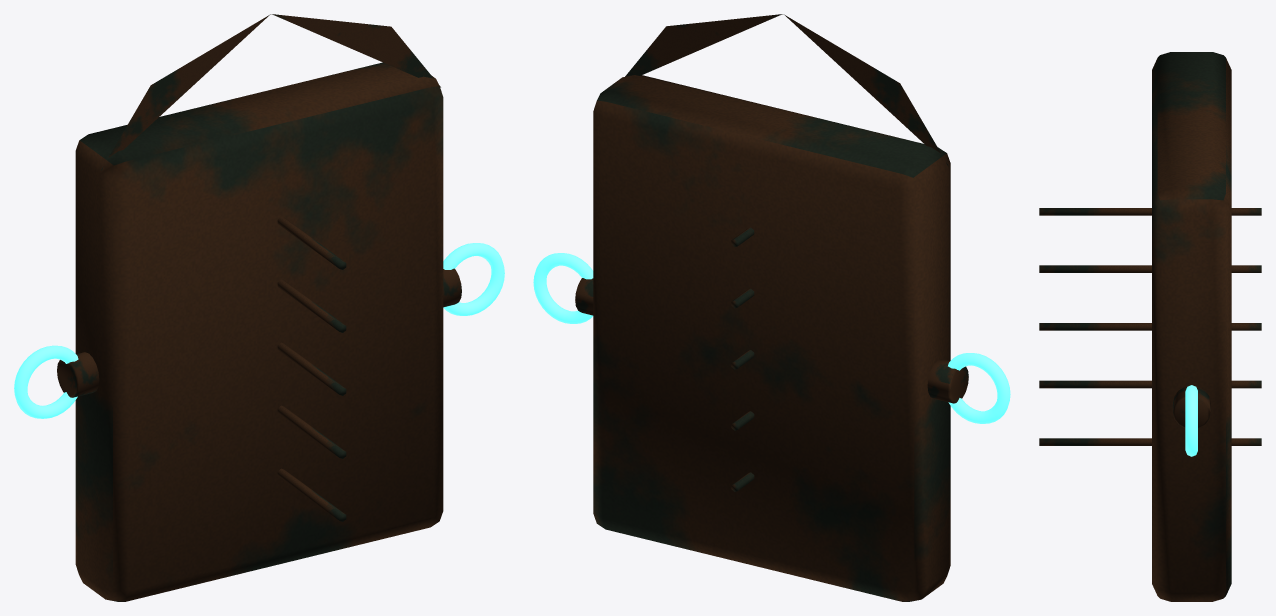
Rendered from inscribed_stele.fbx.
3 views of the same model, side by side, from view 1: azimuth 30°, elevation 25°; view 2: azimuth 150°, elevation 25°; view 3: azimuth 270°, elevation 25° (orthographic). The views are drawn at different scales.
Visible parts, largest first — view 1: TH10_Stele_Body, TH10_Stele_Crown, TH10_Stele_Handle, TH10_Stele_Handle.001, TH10_Stele_HandleSocket, TH10_Stele_Glyph, TH10_Stele_Glyph.002, TH10_Stele_Glyph.001, TH10_Stele_Glyph.003, TH10_Stele_Glyph.004; view 2: TH10_Stele_Body, TH10_Stele_Crown, TH10_Stele_Handle, TH10_Stele_Handle.001, TH10_Stele_HandleSocket; view 3: TH10_Stele_Body, TH10_Stele_Glyph.001, TH10_Stele_Glyph, TH10_Stele_Glyph.002, TH10_Stele_Glyph.003, TH10_Stele_Glyph.004, TH10_Stele_Handle.001, TH10_Stele_HandleSocket.001.
Boxes of the visible parts, x1=… form: TH10_Stele_Body: x1=75, y1=62, x2=443, y2=601; TH10_Stele_Crown: x1=101, y1=14, x2=440, y2=170; TH10_Stele_Handle: x1=14, y1=345, x2=78, y2=418; TH10_Stele_Handle.001: x1=443, y1=243, x2=504, y2=315; TH10_Stele_HandleSocket: x1=57, y1=352, x2=99, y2=397; TH10_Stele_Glyph: x1=277, y1=468, x2=346, y2=521; TH10_Stele_Glyph.002: x1=277, y1=342, x2=346, y2=395; TH10_Stele_Glyph.001: x1=277, y1=405, x2=346, y2=458; TH10_Stele_Glyph.003: x1=277, y1=279, x2=346, y2=332; TH10_Stele_Glyph.004: x1=277, y1=216, x2=346, y2=269; TH10_Stele_Body: x1=593, y1=75, x2=950, y2=601; TH10_Stele_Crown: x1=625, y1=14, x2=948, y2=166; TH10_Stele_Handle: x1=948, y1=353, x2=1010, y2=423; TH10_Stele_Handle.001: x1=533, y1=253, x2=593, y2=323; TH10_Stele_HandleSocket: x1=927, y1=359, x2=968, y2=403; TH10_Stele_Body: x1=1152, y1=52, x2=1231, y2=601; TH10_Stele_Glyph.001: x1=1039, y1=380, x2=1261, y2=388; TH10_Stele_Glyph: x1=1039, y1=438, x2=1261, y2=445; TH10_Stele_Glyph.002: x1=1039, y1=323, x2=1261, y2=330; TH10_Stele_Glyph.003: x1=1039, y1=265, x2=1261, y2=272; TH10_Stele_Glyph.004: x1=1039, y1=208, x2=1261, y2=215; TH10_Stele_Handle.001: x1=1185, y1=385, x2=1197, y2=456; TH10_Stele_HandleSocket.001: x1=1172, y1=386, x2=1210, y2=428.
Size of the model in its own units: 0.488 by 0.525 by 0.21.
Materials: 2 (1 with a texture image).
